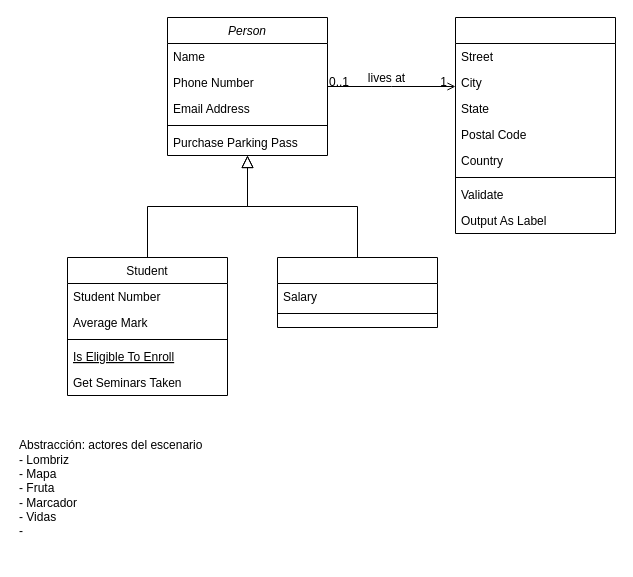
Some shapes in this 633 by 577 pixel diagram are drawn without their labels. The box of each missing label's shape, as (x1, y1, x2, y2) in pixels:
Address: (454, 16, 616, 234)
Professor: (276, 256, 438, 328)
